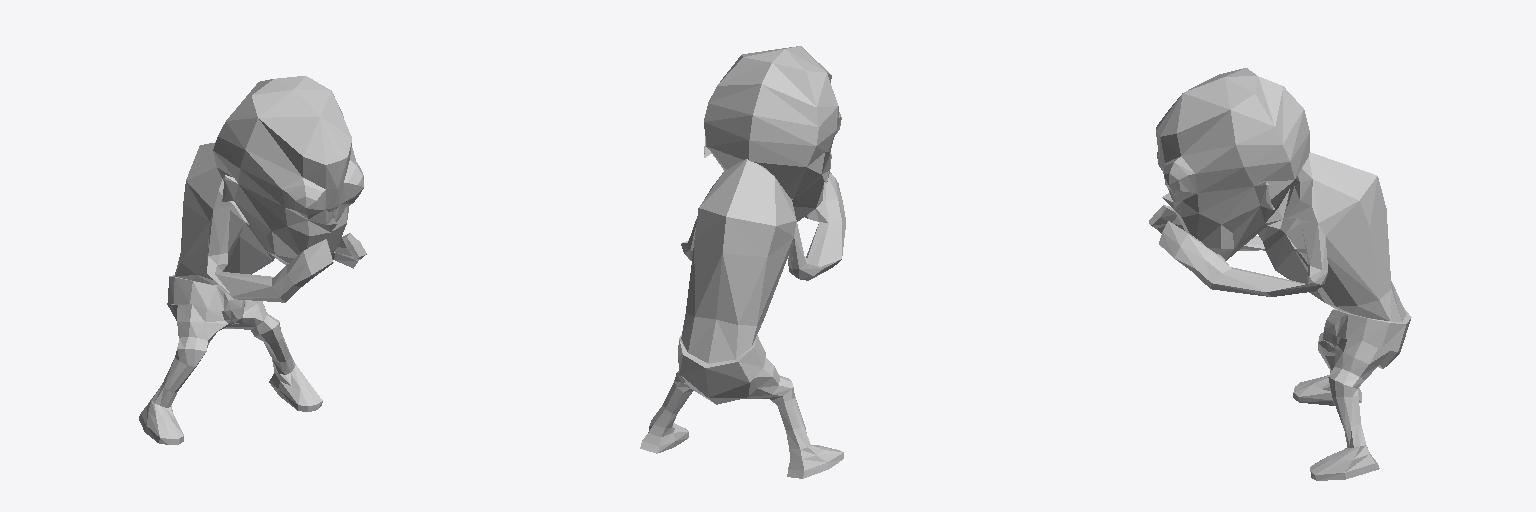
File: GuardianNormal_000074.obj
3 views of the same model, side by side, from view 1: azimuth 30°, elevation 25°; view 2: azimuth 150°, elevation 25°; view 3: azimuth 270°, elevation 25° (orthographic).
Parts seen in each view (by area): view 1: untitled2:Mesh1.001; view 2: untitled2:Mesh1.001; view 3: untitled2:Mesh1.001.
Part boxes in pixels (x1,y1,x2,y2): untitled2:Mesh1.001: (139,76,366,444); untitled2:Mesh1.001: (640,46,845,478); untitled2:Mesh1.001: (1149,68,1411,480).
Size of the model in its own units: 6.96 by 14.15 by 9.16.